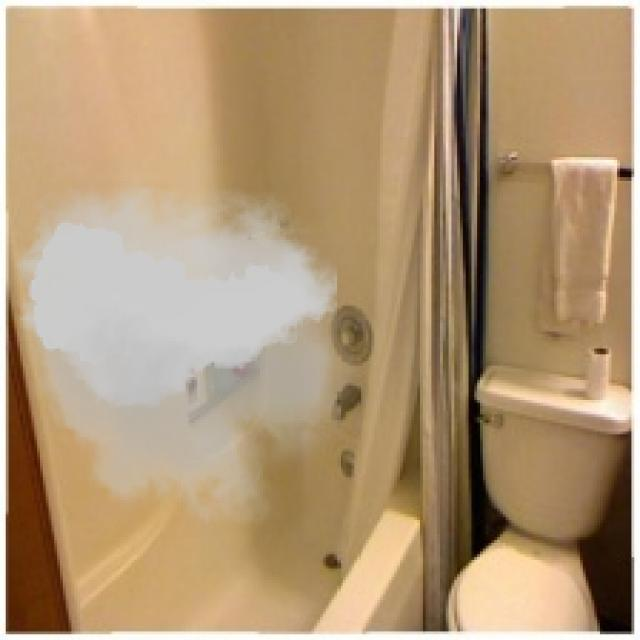Smoke: (6, 157, 360, 546)
